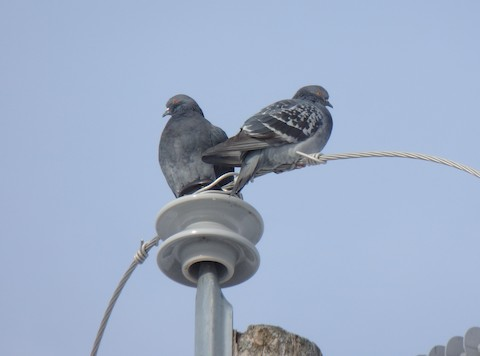pigeon: (202, 78, 341, 185), (152, 87, 257, 205)
